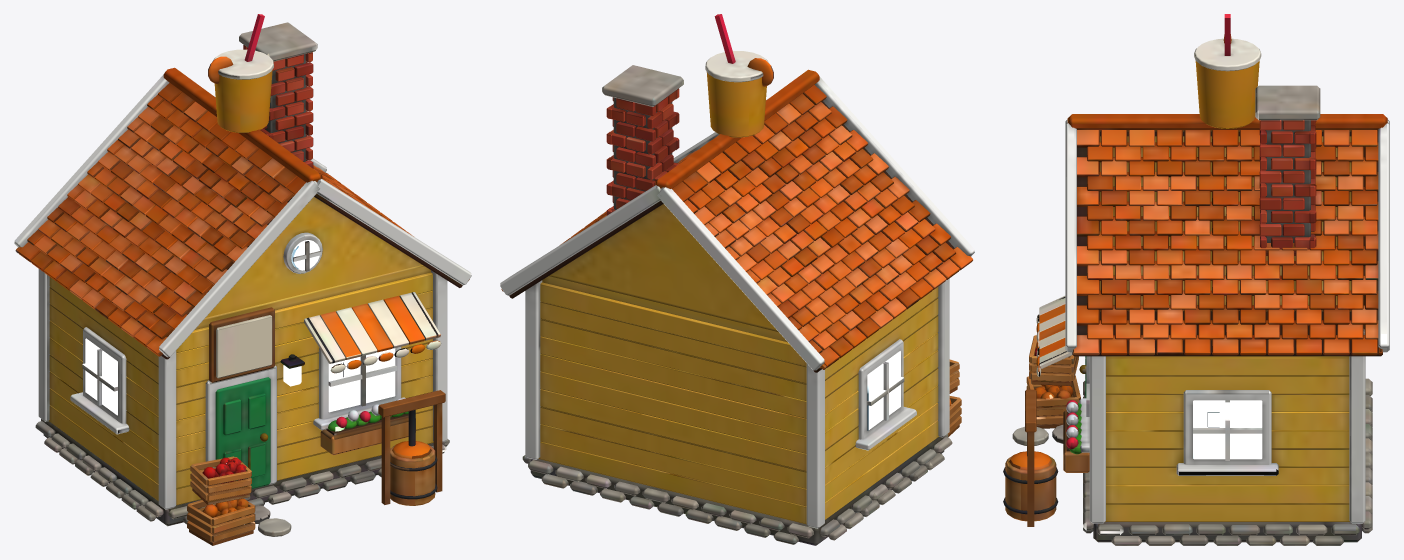
Rendered from juice_press.glb.
The picture shows the model from 3 angles, left to right: view 1: azimuth 30°, elevation 25°; view 2: azimuth 150°, elevation 25°; view 3: azimuth 270°, elevation 25°; orthographic projection. The views are drawn at different scales.
Parts seen in each view (by area): view 1: juice_press; view 2: juice_press; view 3: juice_press.
Boxes of the visible parts, x1,y1,x2,y2 form: juice_press: (14, 14, 471, 545); juice_press: (500, 14, 974, 545); juice_press: (1003, 14, 1389, 545).
Bounding box in the file's own units: 1.68 × 2.22 × 1.67.
Materials: 1 (1 with a texture image).
